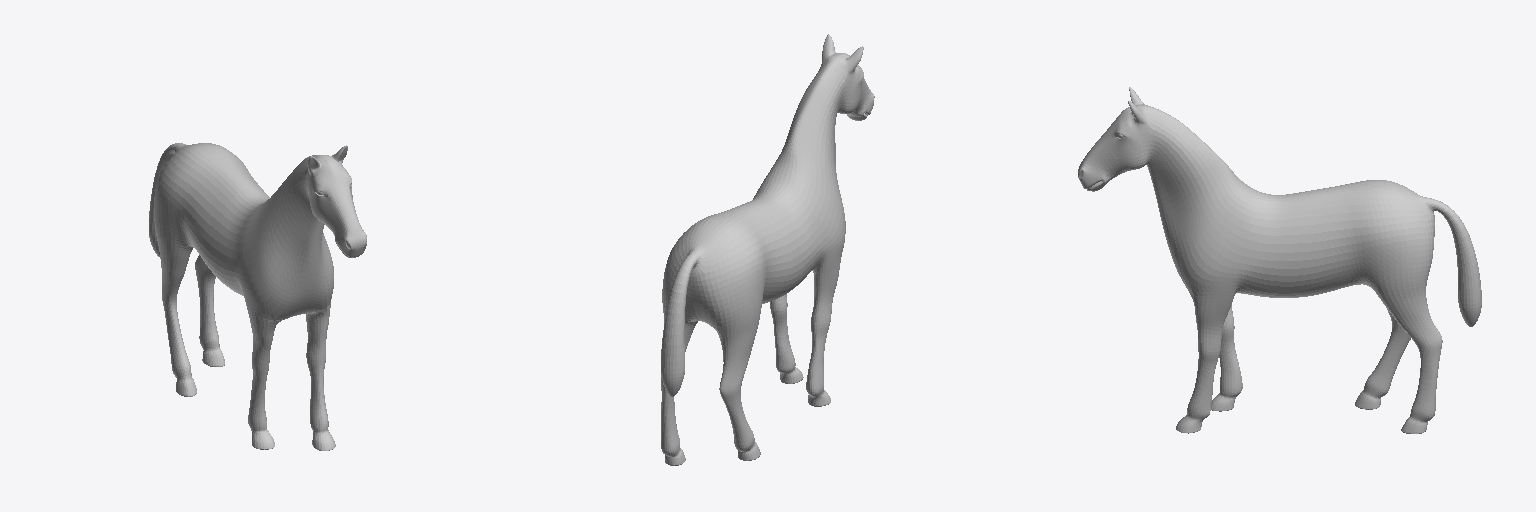
File: RM_White_Horse.obj
3 views of the same model, side by side, from view 1: azimuth 30°, elevation 25°; view 2: azimuth 150°, elevation 25°; view 3: azimuth 270°, elevation 25° (orthographic).
Parts seen in each view (by area): view 1: RM_White_Horse_Plane; view 2: RM_White_Horse_Plane; view 3: RM_White_Horse_Plane.
Boxes of the visible parts, <box> form: RM_White_Horse_Plane: <box>149,143,366,450</box>; RM_White_Horse_Plane: <box>661,34,874,465</box>; RM_White_Horse_Plane: <box>1078,87,1481,433</box>.
Bounding box in the file's own units: 0.9575 × 3.51 × 3.95.